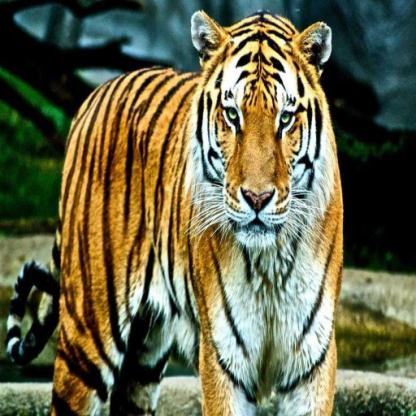Tiger: (2, 0, 416, 415)
